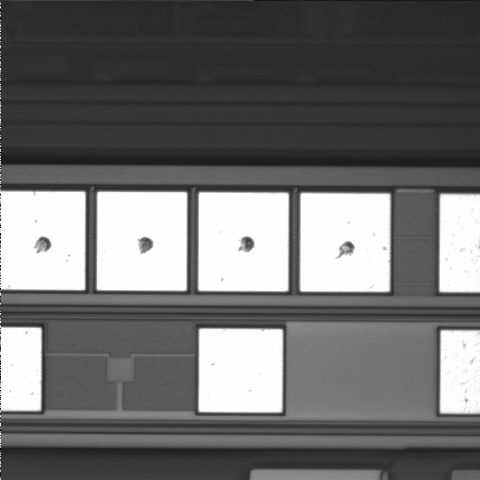pad: (97, 192, 187, 291), (199, 192, 289, 291), (300, 193, 390, 292), (199, 329, 283, 412)
